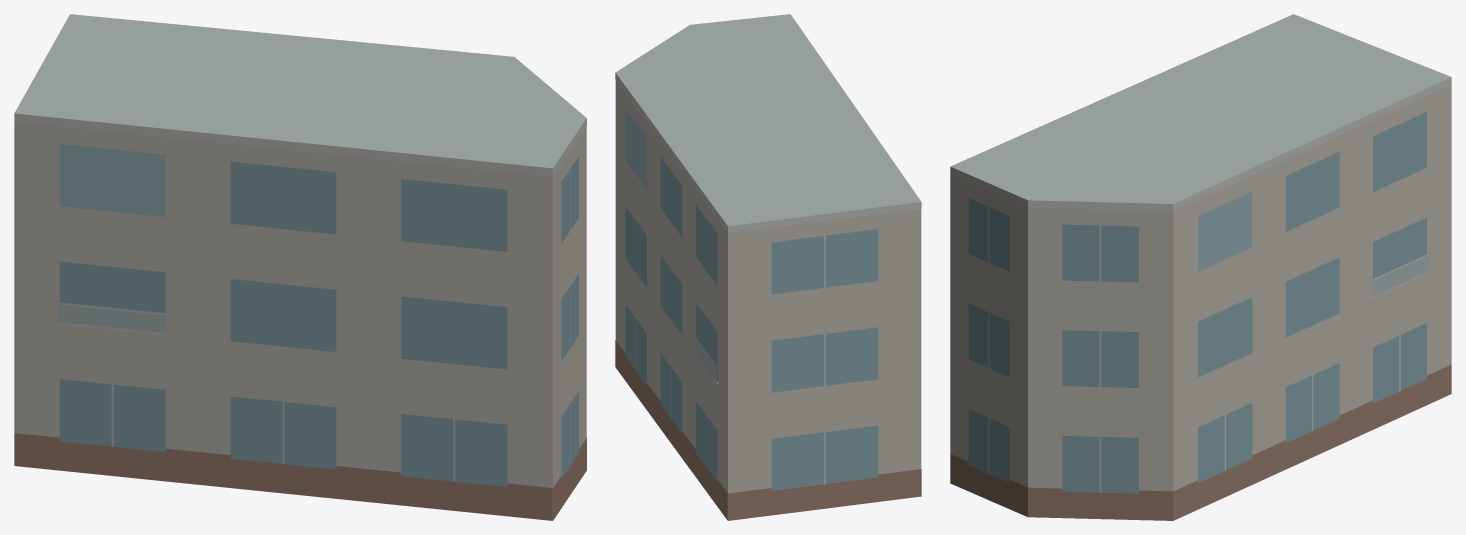
File: survey-upis-32665621.glb
3 renders of one model, left to right at view 1: azimuth 30°, elevation 25°; view 2: azimuth 150°, elevation 25°; view 3: azimuth 270°, elevation 25°, orthographic. The views are drawn at different scales.
Visible parts, largest first — view 1: survey-upis-32665621.tmp; view 2: survey-upis-32665621.tmp; view 3: survey-upis-32665621.tmp.
Part boxes in pixels (x1,y1,x2,y2): survey-upis-32665621.tmp: (14, 14, 586, 520); survey-upis-32665621.tmp: (615, 14, 921, 520); survey-upis-32665621.tmp: (950, 14, 1451, 520).
Size of the model in its own units: 13.13 by 10.2 by 14.64.
